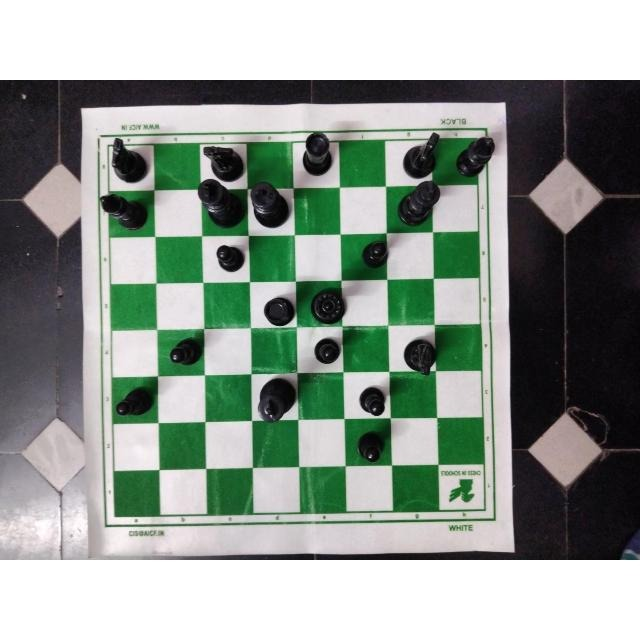black-bishop: (94, 191, 151, 233), (454, 130, 498, 181)
black-king: (194, 176, 246, 227), (247, 179, 292, 231), (394, 179, 442, 227), (252, 378, 300, 422)
black-knight: (106, 135, 152, 185), (399, 131, 443, 179), (399, 334, 439, 380), (199, 141, 244, 180)
black-pawn: (112, 385, 154, 423), (163, 333, 204, 368), (209, 237, 248, 273), (354, 384, 389, 420), (354, 237, 391, 269), (354, 429, 386, 465), (311, 333, 343, 366)
black-queen: (306, 286, 349, 327)
black-rook: (301, 127, 336, 182), (257, 287, 297, 328)
